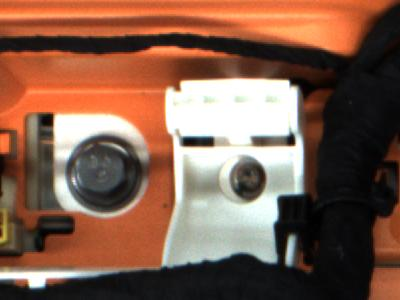nut_b: (66, 130, 149, 217)
